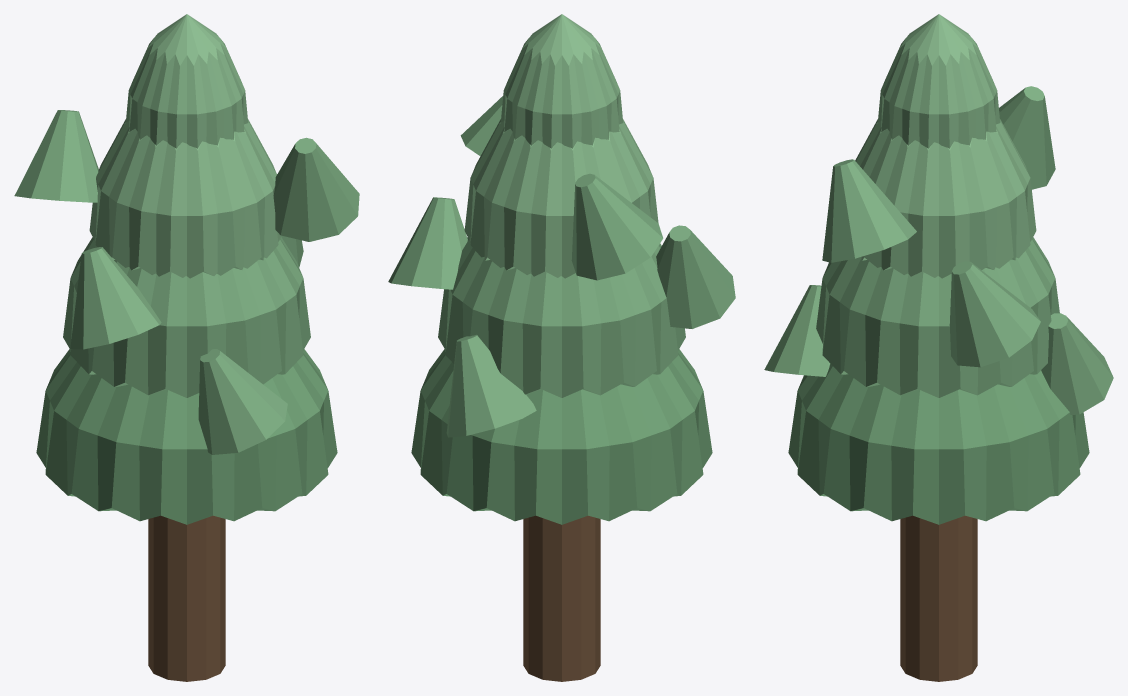
The model's file is tree_pine.glb.
3 views of the same model, side by side, from view 1: azimuth 30°, elevation 25°; view 2: azimuth 150°, elevation 25°; view 3: azimuth 270°, elevation 25° (orthographic).
Visible parts, largest first — view 1: TreePine; view 2: TreePine; view 3: TreePine.
Part boxes in pixels (box(x1,y1,x2,y2)): TreePine: box(14, 14, 359, 681); TreePine: box(388, 14, 735, 681); TreePine: box(764, 14, 1113, 681).
Bounding box in the file's own units: 1.16 × 2.6 × 1.27.
